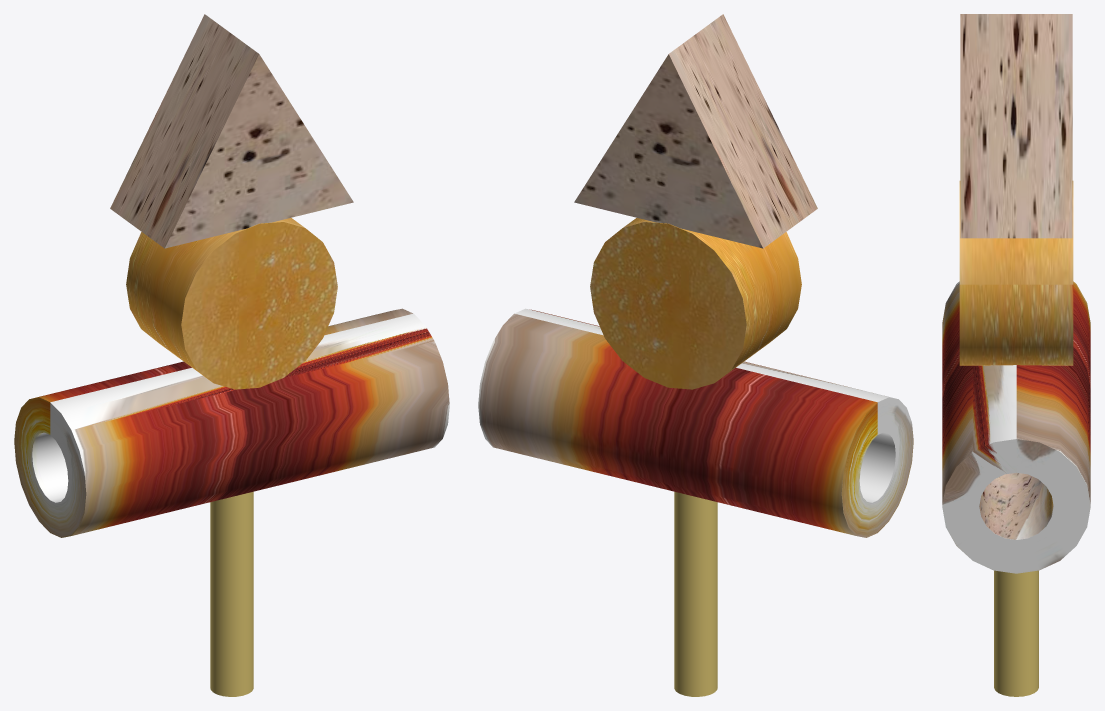
File: Oden2.fbx
3 renders of one model, left to right at view 1: azimuth 30°, elevation 25°; view 2: azimuth 150°, elevation 25°; view 3: azimuth 270°, elevation 25°, orthographic. The views are drawn at different scales.
Visible parts, largest first — view 1: pCylinder3; view 2: pCylinder3; view 3: pCylinder3.
Boxes of the visible parts, left/top/right/bottom form: pCylinder3: left=14, top=14, right=449, bottom=696; pCylinder3: left=478, top=14, right=913, bottom=696; pCylinder3: left=942, top=14, right=1090, bottom=696.
Size of the model in its own units: 3.84 by 6.6 by 1.32.
Materials: 2 (1 with a texture image).
